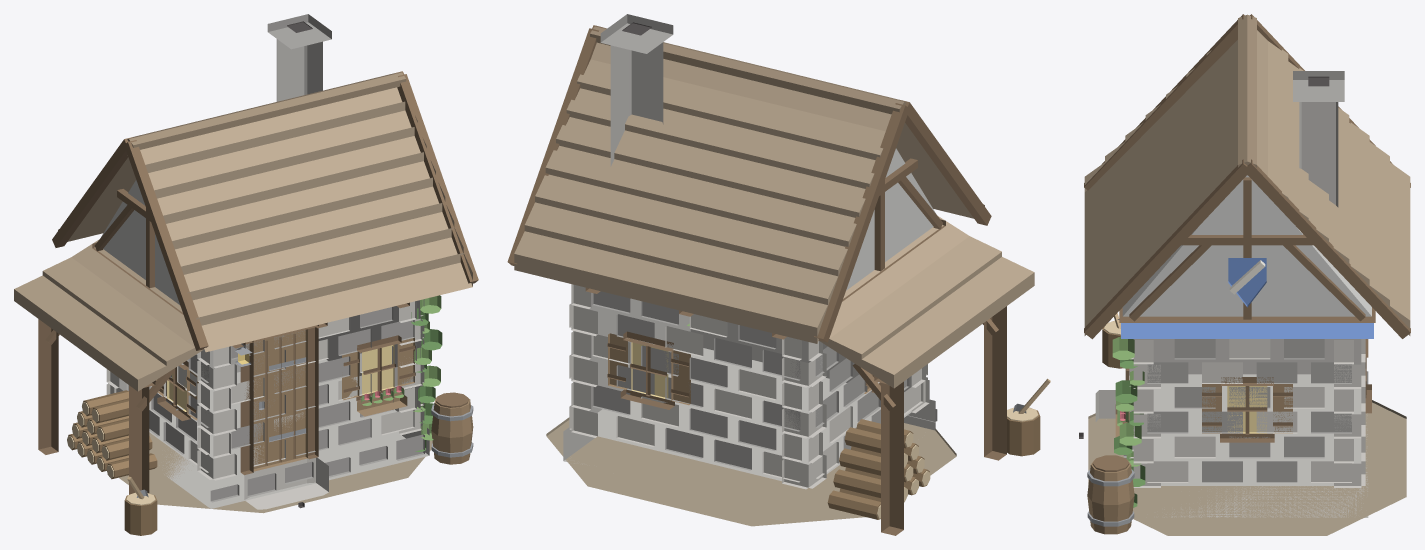
The model's file is house_4.glb.
3 renders of one model, left to right at view 1: azimuth 30°, elevation 25°; view 2: azimuth 150°, elevation 25°; view 3: azimuth 270°, elevation 25°, orthographic. The views are drawn at different scales.
Visible parts, largest first — view 1: Roof, Roof#2, Roof#3, Roof#4, Roof#5, Roof#7, Roof#6, Door, Shed.Roof, Shed.Roof#2, Roof#8, Ground (+34 smaller); view 2: Ground, Roof#9, Walls, Roof#10, Roof#11, Roof#12, Roof#13, Roof#14, Roof#15, Shed.Roof, Shed.Roof#2, Roof#16 (+43 smaller); view 3: Ground, Gable, Walls, Band, Chimney, Gable.Barge#2, Roof#9, Gable.Barge, Roof#10, Roof#11, Roof#15, Roof (+68 smaller).
Part boxes in pixels (x1=…): Roof: x1=196, y1=253, x2=472, y2=352; Roof#2: x1=187, y1=227, x2=463, y2=317; Roof#3: x1=181, y1=203, x2=454, y2=291; Roof#4: x1=172, y1=177, x2=445, y2=266; Roof#5: x1=163, y1=152, x2=435, y2=240; Roof#7: x1=145, y1=101, x2=417, y2=190; Roof#6: x1=154, y1=127, x2=426, y2=215; Door: x1=253, y1=329, x2=307, y2=471; Shed.Roof: x1=14, y1=275, x2=166, y2=391; Shed.Roof#2: x1=42, y1=257, x2=194, y2=372; Roof#8: x1=140, y1=87, x2=402, y2=164; Ground: x1=119, y1=432, x2=432, y2=513; Ground: x1=546, y1=417, x2=956, y2=526; Roof#9: x1=514, y1=231, x2=827, y2=343; Walls: x1=574, y1=293, x2=911, y2=481; Roof#10: x1=524, y1=202, x2=838, y2=305; Roof#11: x1=535, y1=174, x2=847, y2=276; Roof#12: x1=545, y1=145, x2=856, y2=246; Roof#13: x1=556, y1=117, x2=865, y2=217; Roof#14: x1=566, y1=88, x2=875, y2=188; Roof#15: x1=577, y1=59, x2=885, y2=159; Shed.Roof: x1=861, y1=257, x2=1034, y2=388; Shed.Roof#2: x1=829, y1=236, x2=1001, y2=367; Roof#16: x1=591, y1=42, x2=891, y2=131; Ground: x1=1088, y1=400, x2=1406, y2=535; Gable: x1=1122, y1=175, x2=1371, y2=316; Walls: x1=1134, y1=339, x2=1361, y2=485; Band: x1=1121, y1=323, x2=1373, y2=338; Chimney: x1=1299, y1=102, x2=1338, y2=207; Gable.Barge#2: x1=1084, y1=159, x2=1248, y2=339; Roof#9: x1=1390, y1=162, x2=1410, y2=335; Gable.Barge: x1=1243, y1=159, x2=1410, y2=338; Roof#10: x1=1369, y1=142, x2=1389, y2=307; Roof#11: x1=1349, y1=122, x2=1369, y2=285; Roof#15: x1=1268, y1=41, x2=1288, y2=199; Roof: x1=1084, y1=162, x2=1104, y2=335.
Bounding box in the file's own units: 4.82 × 5.02 × 3.65.
